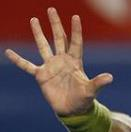down: (4, 6, 114, 111)
